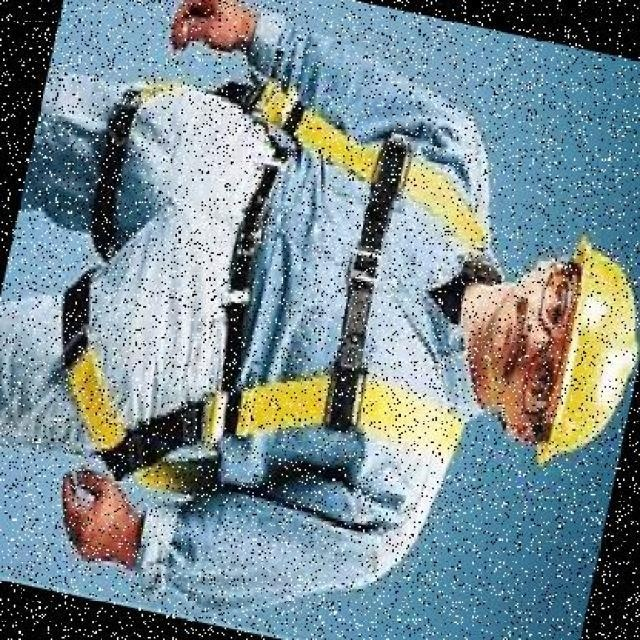Arnes_seguridad: (22, 41, 527, 560)
